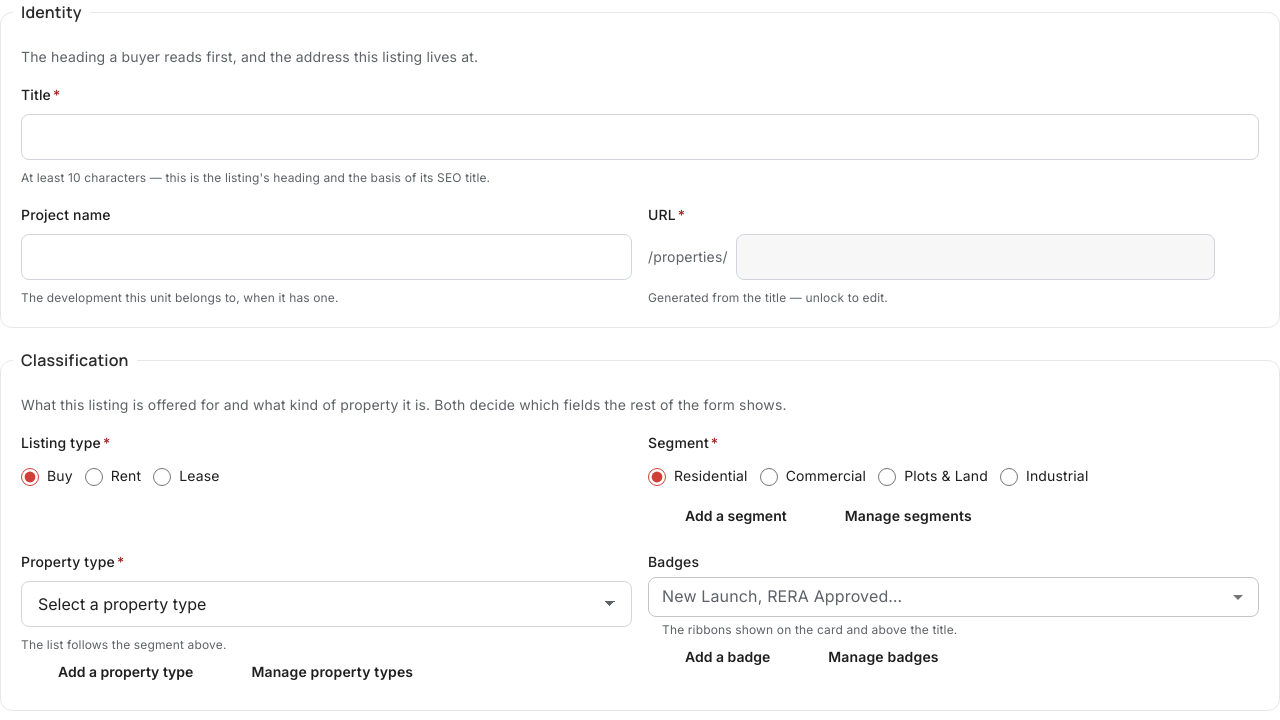
Test: adding master data from the listing › refuses a segment name master data already holds, without asking the API
Expected: the radio button labelled "Industrial" is shown, 1000,468 -> 1018,486
Click the button "Add a segment": [724, 516] box 648,498 -> 800,534
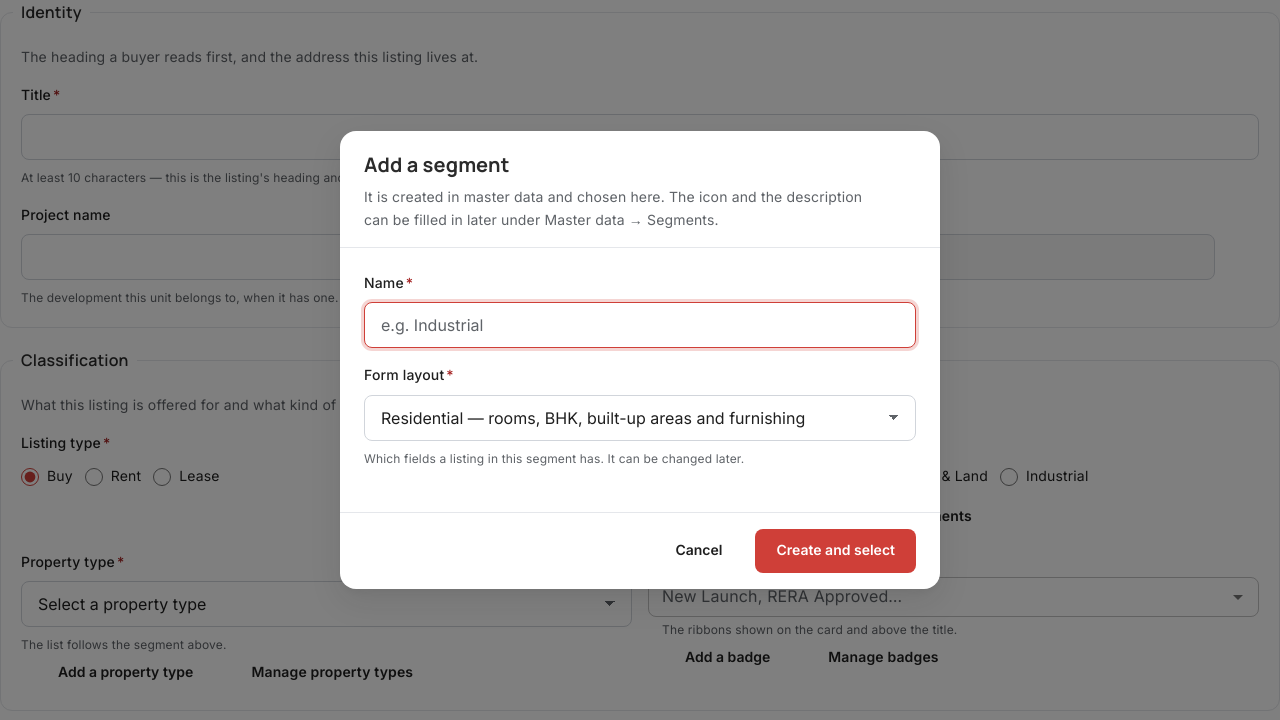
In the field labelled "Name*": [640, 325] box 364,302 -> 916,348, type " industrial "
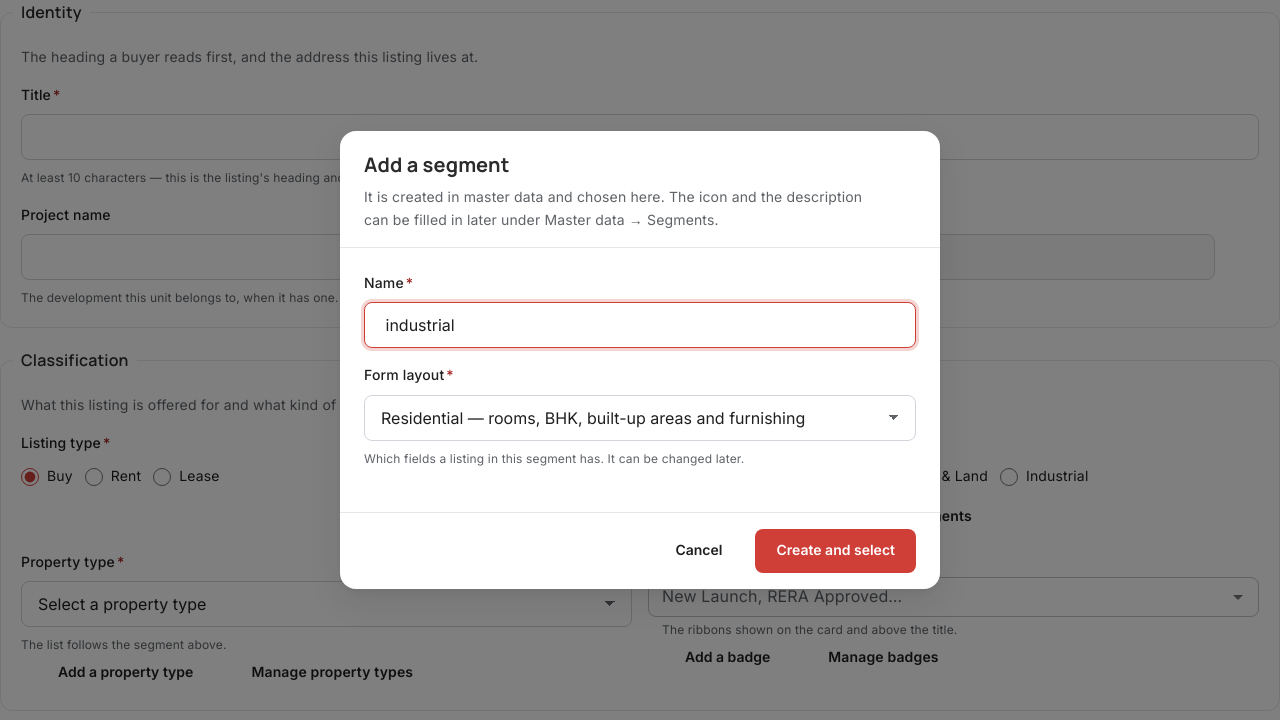
Click the button "Create and select": [836, 551] box 756,529 -> 916,573
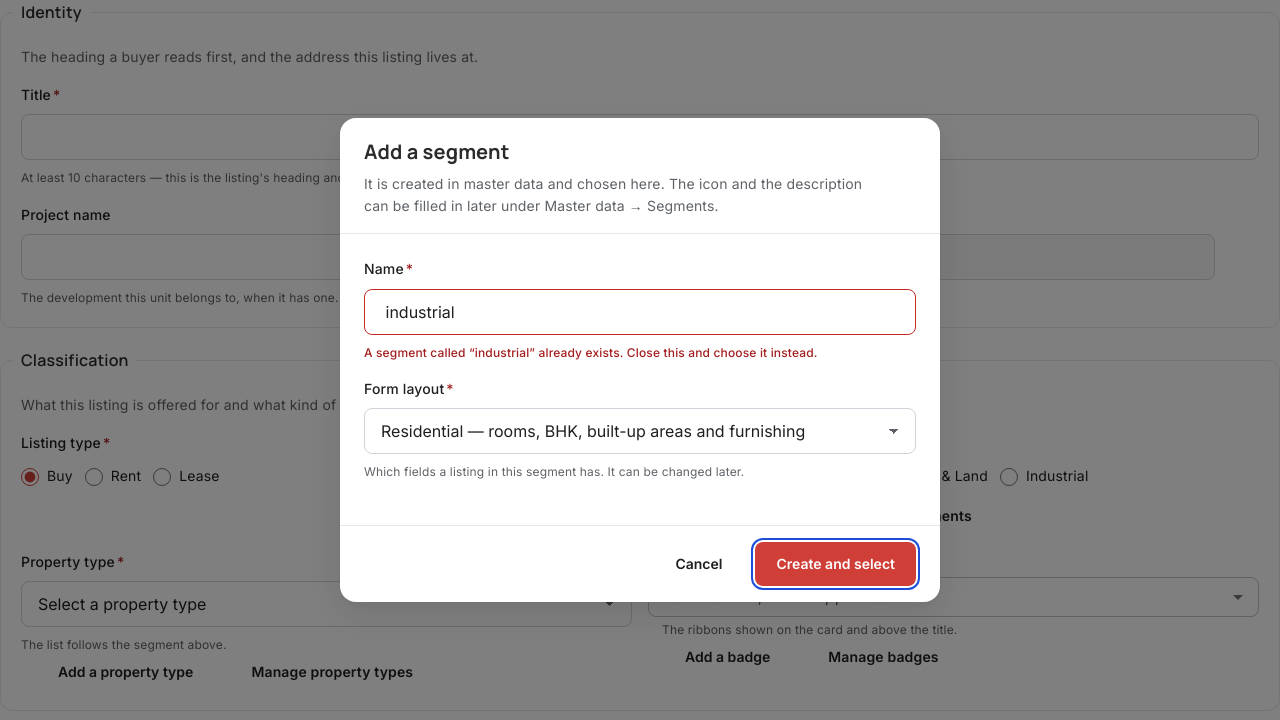
Expected: the text "already exists" is shown, 364,345 -> 818,360
